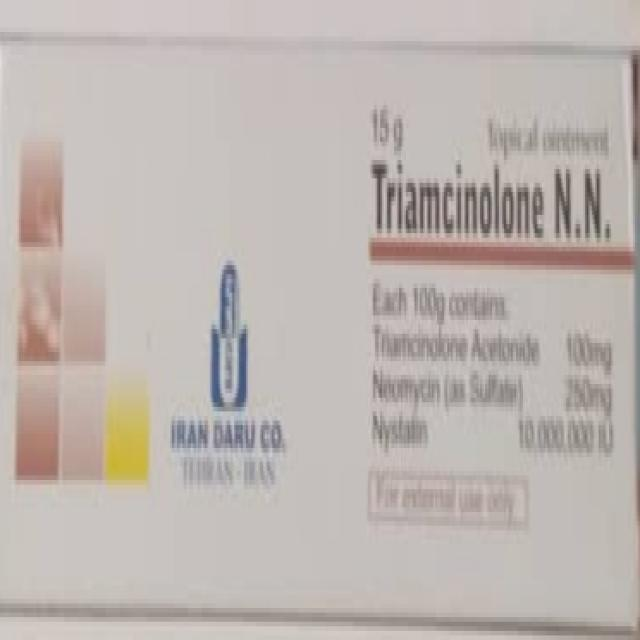drug-name: (368, 156, 614, 242)
